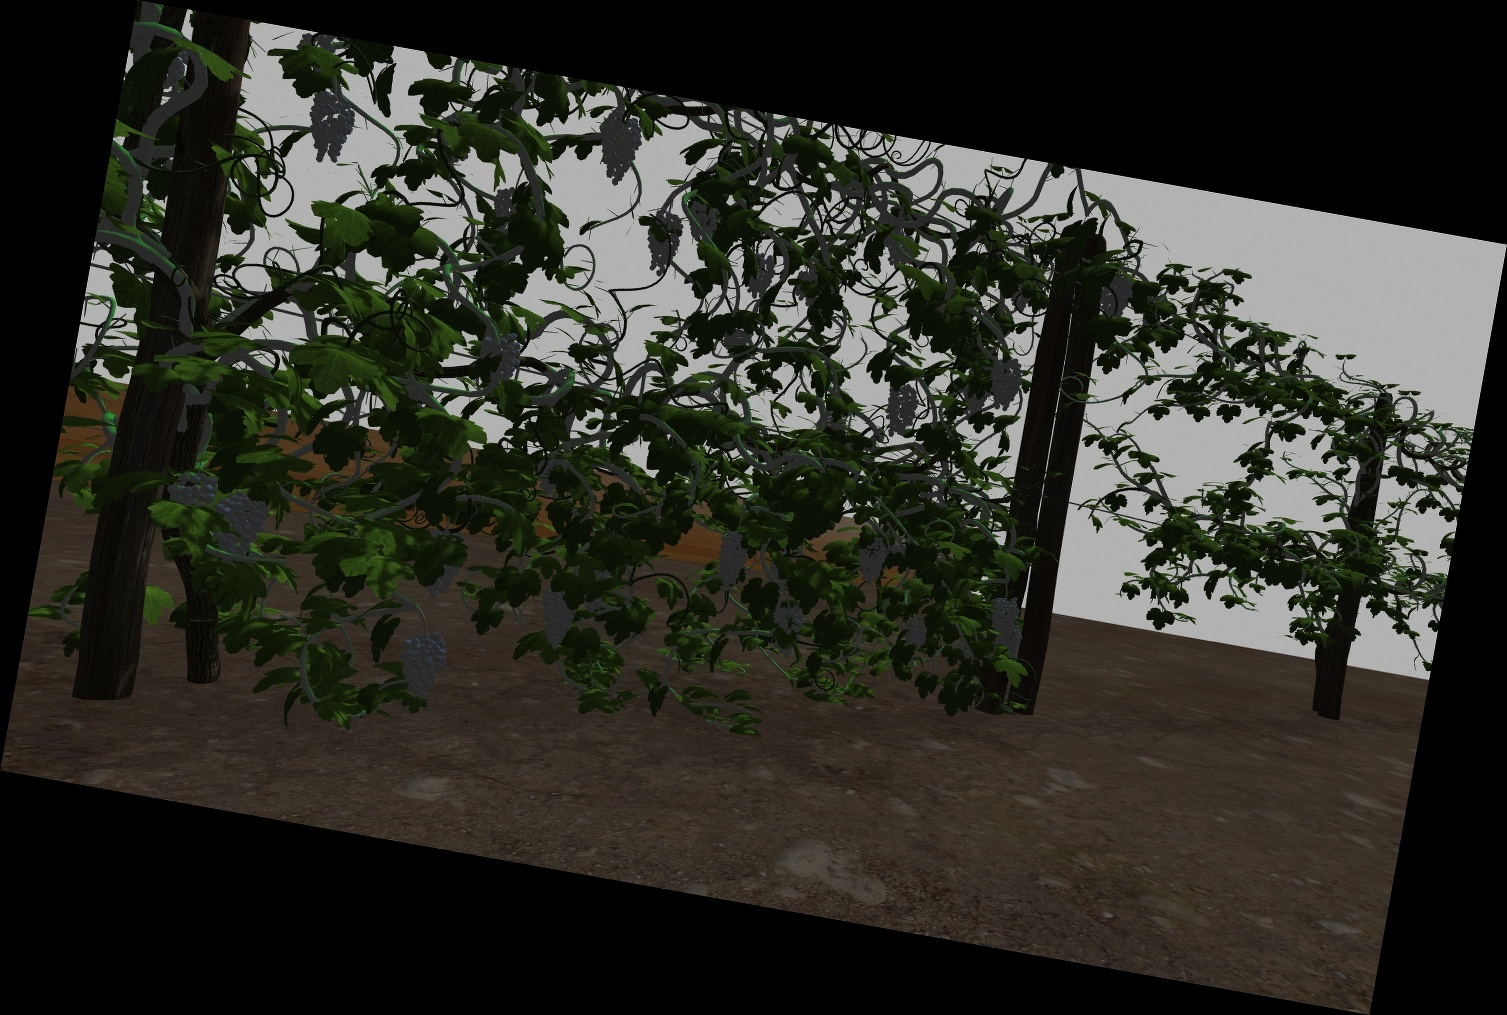grape: (209, 491, 268, 566), (305, 92, 354, 163), (399, 628, 445, 700), (598, 116, 641, 187), (479, 329, 519, 399), (643, 210, 680, 278), (537, 588, 576, 650), (166, 464, 219, 511), (988, 353, 1022, 412), (716, 530, 747, 592), (740, 250, 774, 300), (887, 383, 918, 436), (855, 535, 888, 585), (882, 228, 916, 273), (773, 589, 807, 634), (1101, 272, 1132, 317), (686, 198, 718, 244), (901, 609, 928, 650), (990, 597, 1020, 633), (992, 630, 1022, 658)
